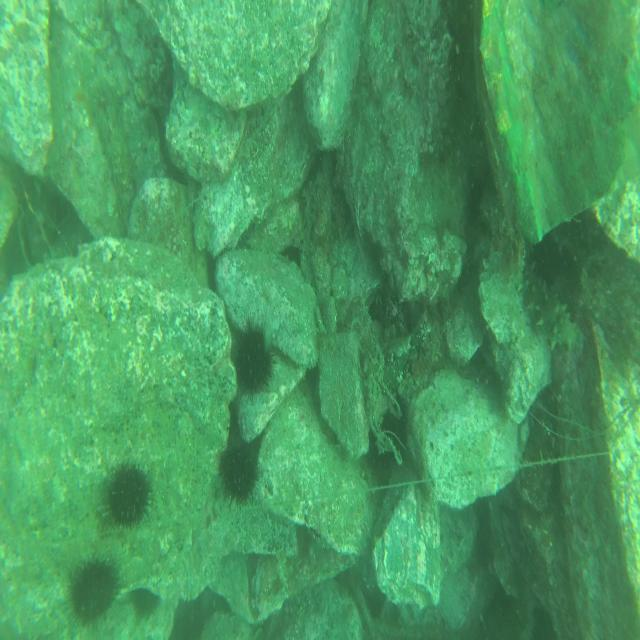echinus: (102, 462, 156, 532), (230, 319, 275, 400), (68, 555, 120, 621), (215, 444, 259, 509), (130, 588, 158, 620), (279, 241, 303, 268)
holothurian: (519, 259, 581, 353)
